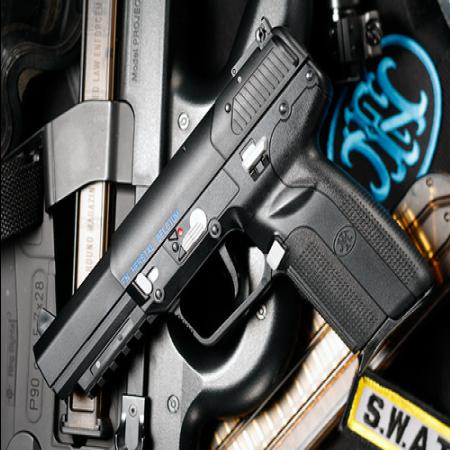Pistol: (30, 18, 438, 408)
